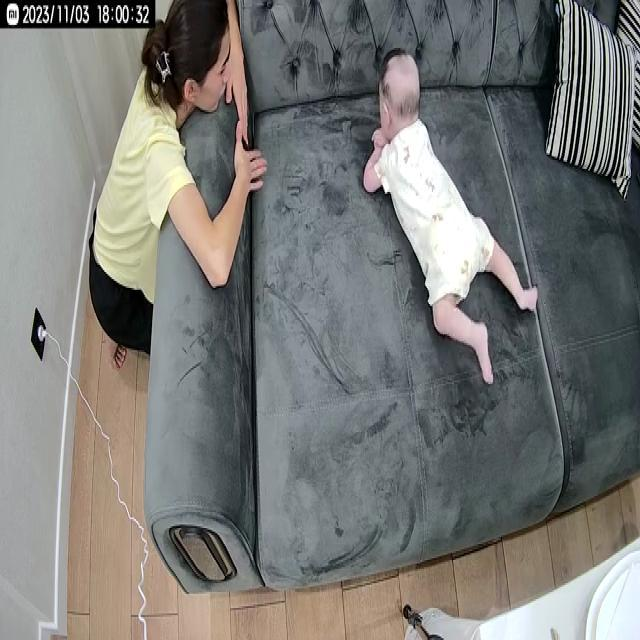baby: (362, 44, 538, 385)
